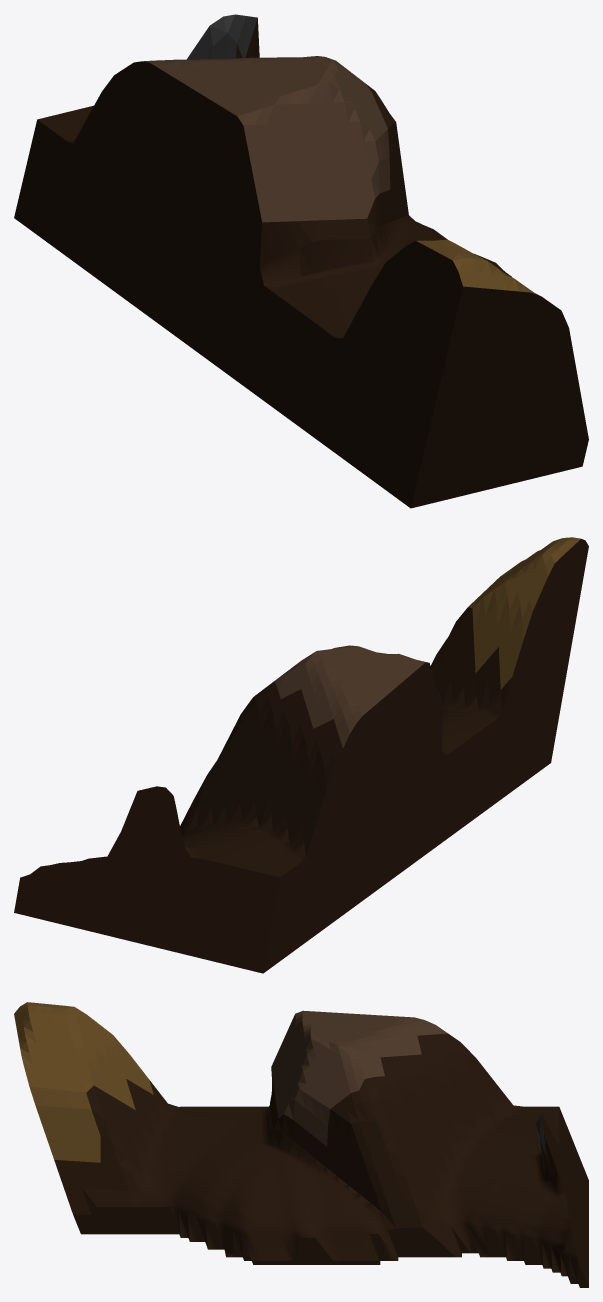
Rendered from ixm_boss_241.glb.
3 views of the same model, one above another, from view 1: azimuth 30°, elevation 25°; view 2: azimuth 150°, elevation 25°; view 3: azimuth 270°, elevation 25° (orthographic). The views are drawn at different scales.
Visible parts, largest first — view 1: ixm_boss_241; view 2: ixm_boss_241; view 3: ixm_boss_241.
Boxes of the visible parts, x1,y1,x2,y2 form: ixm_boss_241: [14, 14, 588, 508]; ixm_boss_241: [14, 537, 588, 973]; ixm_boss_241: [14, 1002, 588, 1287].
Size of the model in its own units: 14 by 10.85 by 31.69.
